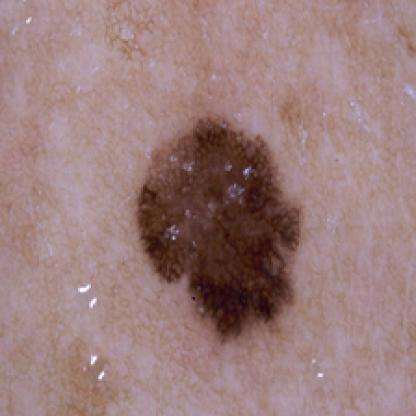Skin_Cancer-Malignant: (133, 112, 307, 346)
